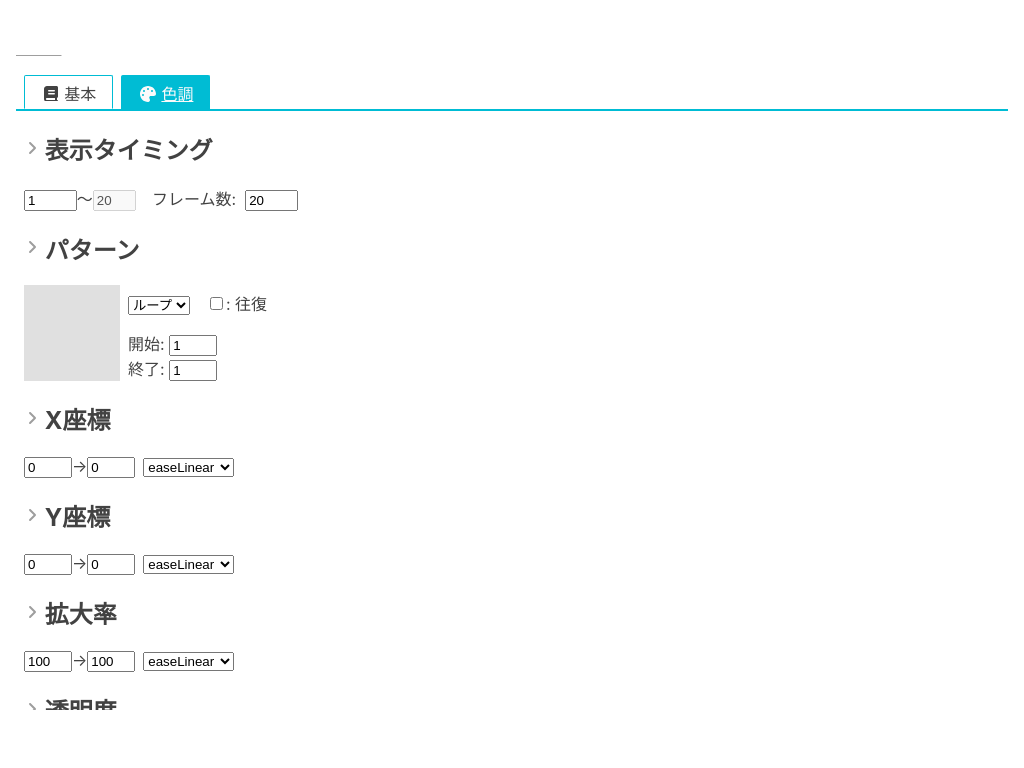
Test: Color components › click HSV mode button, then HSV mode ON
The width and height of the screenshot is (1024, 768).
Click the text "色調" at (166, 92), box [121, 75, 210, 109]
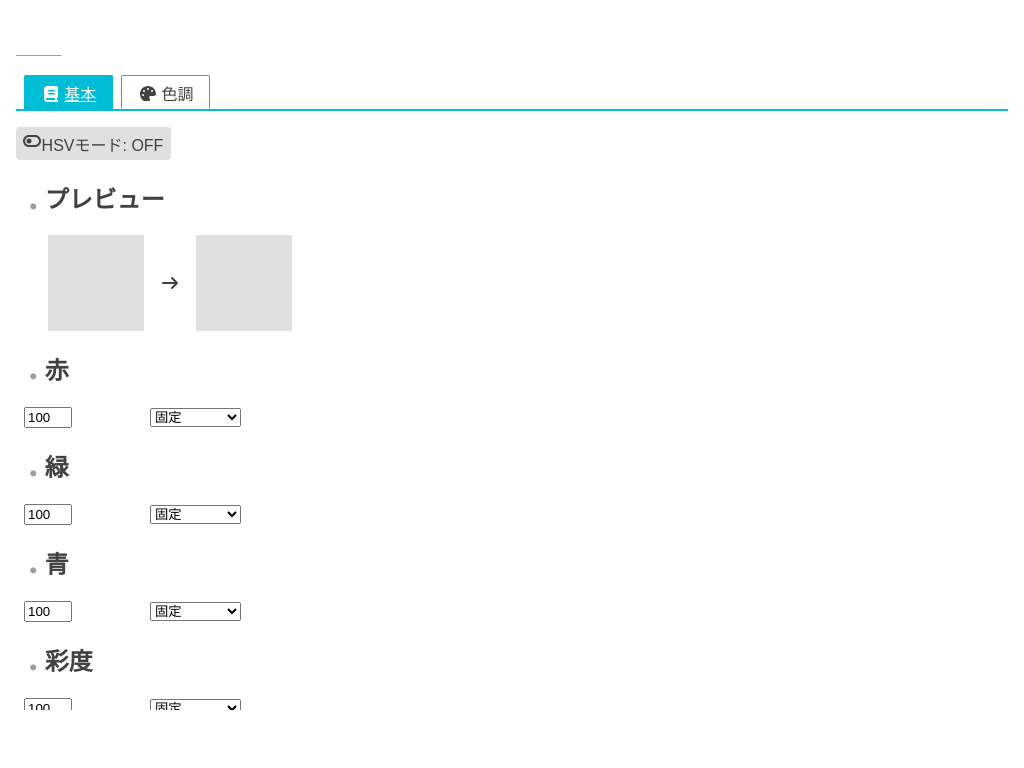
Click the button with test id "color-config-hsv-mode" at (94, 144), box [16, 127, 171, 160]
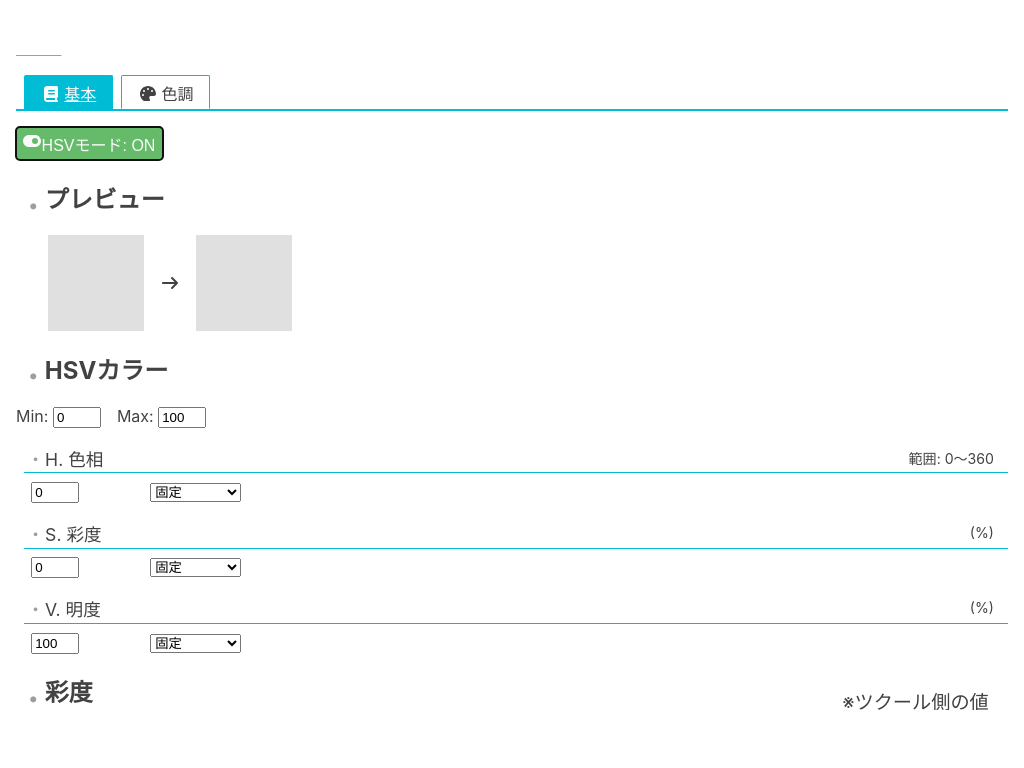
Now the heading "・ H. 色相 範囲: 0～360" is shown, box [24, 446, 1008, 474]
